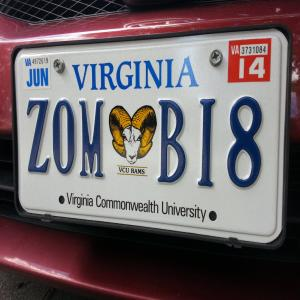Vehicle-registration-plate: (10, 21, 295, 251)
